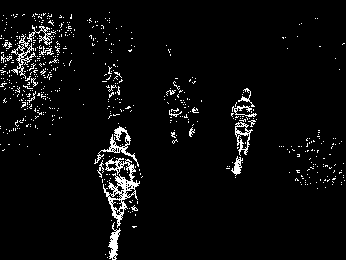person: (89, 126, 147, 260), (230, 87, 267, 183), (99, 64, 127, 122), (165, 78, 185, 145), (189, 79, 206, 141)
